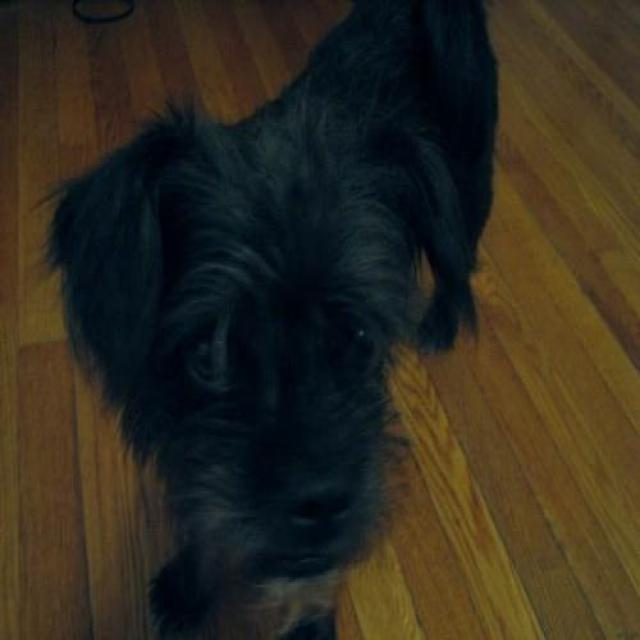Dog: (62, 14, 496, 640)
